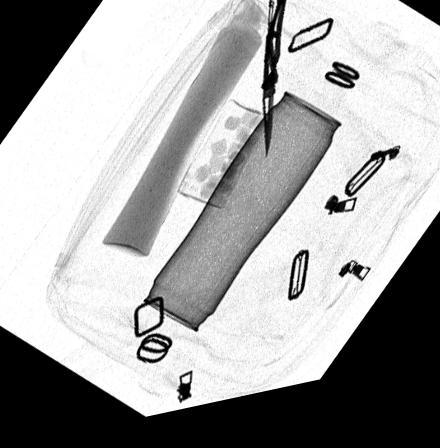Knife: (259, 2, 287, 171)
